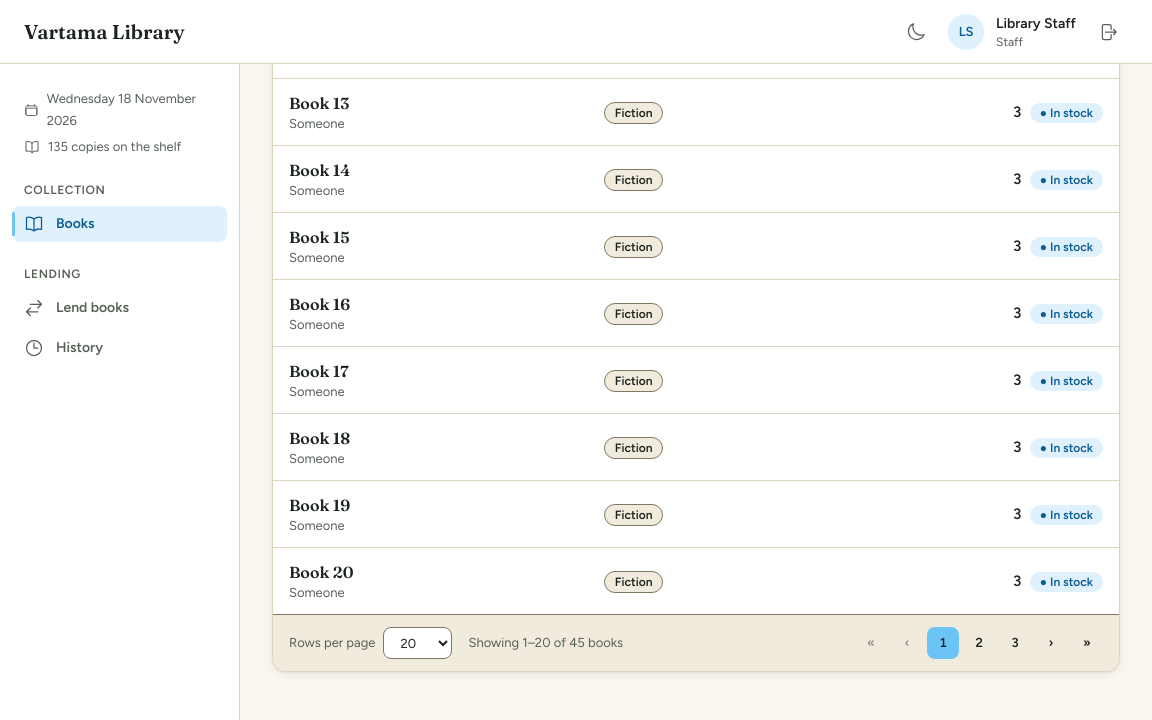
Test: Pagination › changes the number of rows per page and starts again from page 1
(page scrolled)
Click the button named "Page 2": (979, 643) x1=963 y1=627 x2=995 y2=659
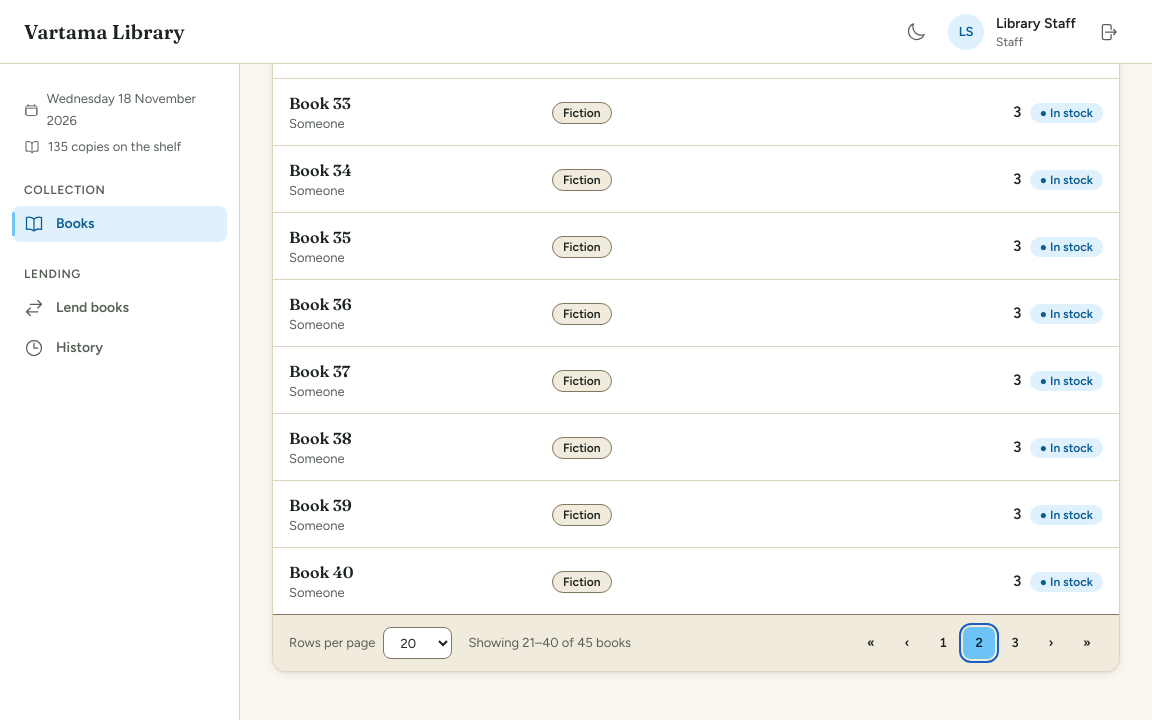
Select "50" in the dropdown labelled "Rows per page": (418, 643) x1=383 y1=627 x2=452 y2=659
(page scrolled)
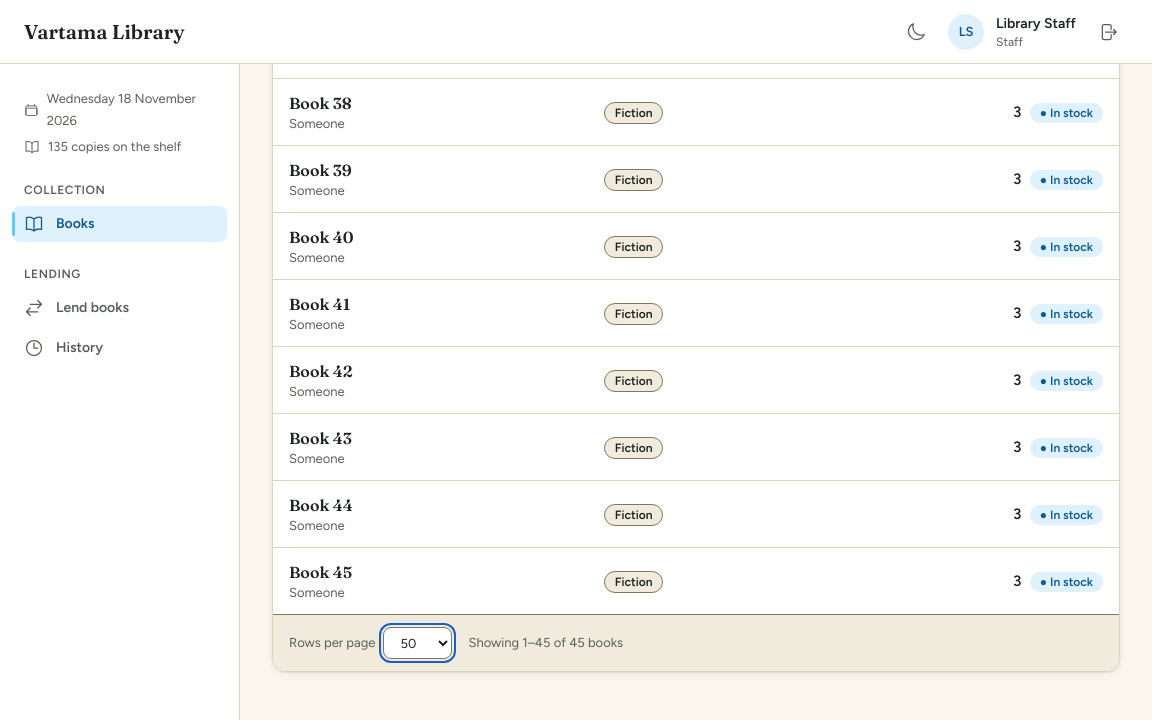
Expected: the text "Showing 1–45 of 45 books" is shown, x1=468 y1=632 x2=623 y2=654
Expected: the navigation bar "Pagination" is gone
